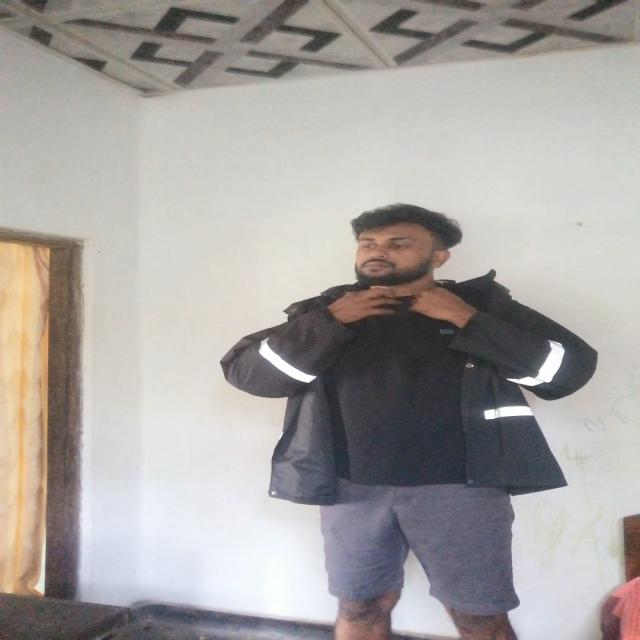Jacket_Wearer: (225, 272, 589, 498)
